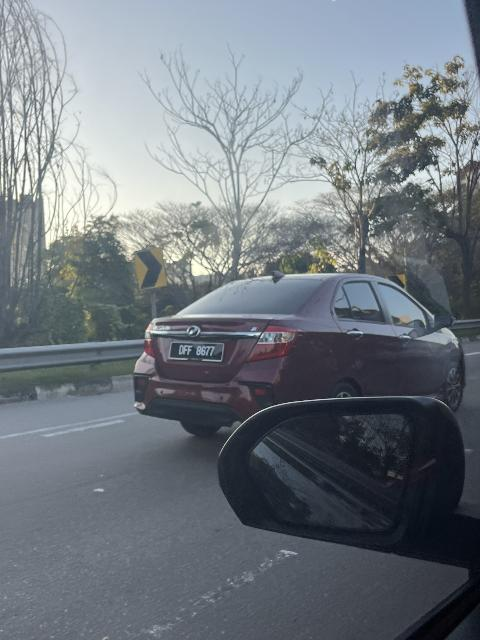License_Plate: (162, 337, 230, 369)
car: (138, 273, 467, 449)
